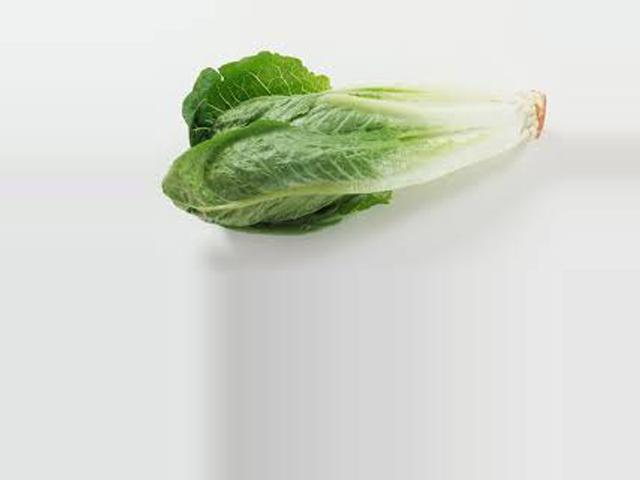lettuce: (159, 46, 564, 243)
